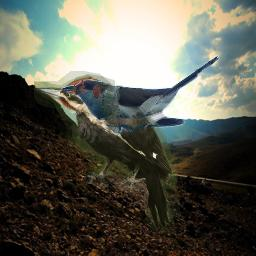Cuckoo: (60, 54, 224, 136)
Woodpecker: (34, 71, 184, 233)
